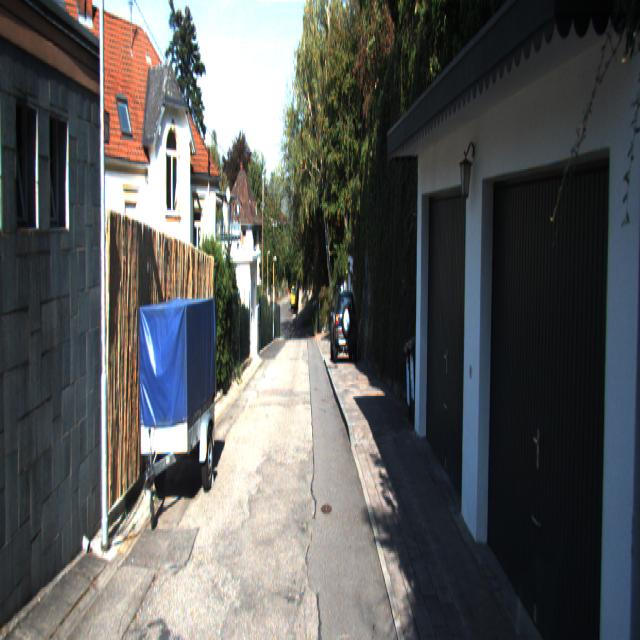Car: (330, 288, 358, 365)
DontCare: (290, 282, 298, 308)
Misc: (138, 296, 216, 522)
